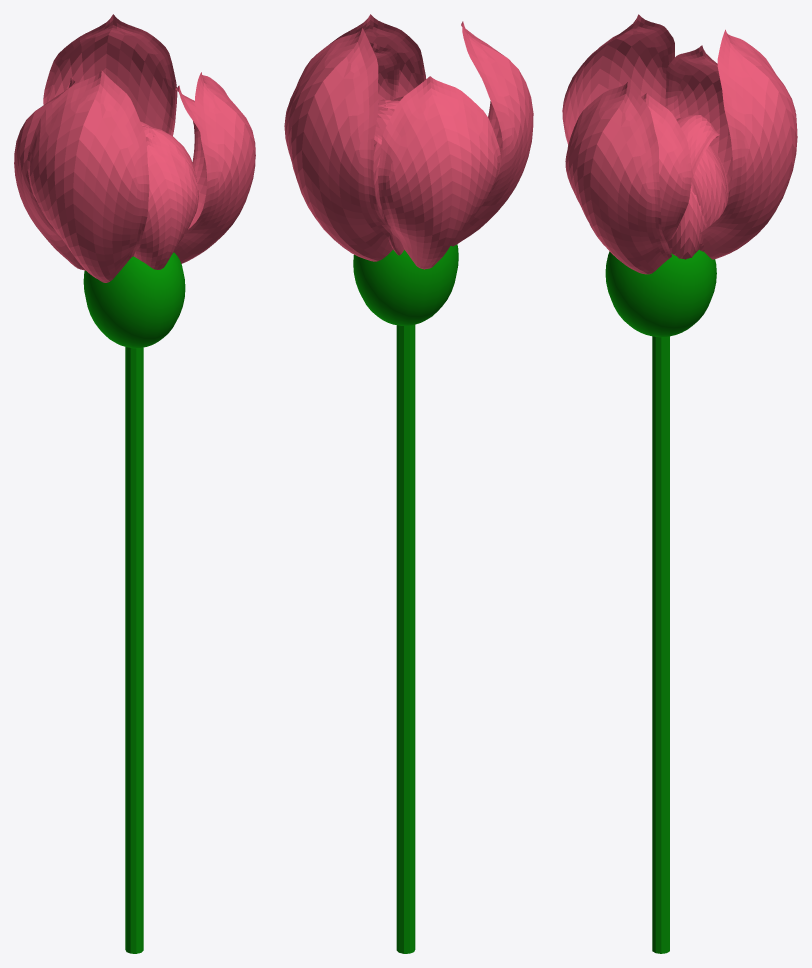
File: Lotus019.fbx
3 renders of one model, left to right at view 1: azimuth 30°, elevation 25°; view 2: azimuth 150°, elevation 25°; view 3: azimuth 270°, elevation 25°, orthographic. The views are drawn at different scales.
Visible parts, largest first — view 1: nurbsToPoly11, pCylinder1, nurbsToPoly10, nurbsToPoly24, pSphere4, nurbsToPoly8, nurbsToPoly12, nurbsToPoly9, nurbsToPoly13; view 2: nurbsToPoly10, nurbsToPoly12, pCylinder1, nurbsToPoly11, pSphere4, nurbsToPoly24, nurbsToPoly9; view 3: nurbsToPoly24, nurbsToPoly10, pCylinder1, pSphere4, nurbsToPoly11, nurbsToPoly12, nurbsToPoly9, nurbsToPoly17, nurbsToPoly15, nurbsToPoly22.
Boxes of the visible parts, x1,y1,x2,y2 form: nurbsToPoly11: [27, 70, 149, 282]; pCylinder1: [125, 347, 143, 953]; nurbsToPoly10: [43, 14, 177, 136]; nurbsToPoly24: [174, 72, 255, 263]; pSphere4: [83, 252, 185, 348]; nurbsToPoly8: [134, 137, 198, 269]; nurbsToPoly12: [14, 78, 85, 270]; nurbsToPoly9: [175, 85, 207, 229]; nurbsToPoly13: [145, 127, 197, 183]; nurbsToPoly10: [284, 28, 393, 261]; nurbsToPoly12: [378, 76, 500, 269]; pCylinder1: [396, 324, 415, 953]; nurbsToPoly11: [451, 21, 533, 246]; pSphere4: [353, 244, 458, 325]; nurbsToPoly24: [329, 14, 426, 97]; nurbsToPoly9: [372, 42, 400, 100]; nurbsToPoly24: [565, 82, 671, 274]; nurbsToPoly10: [700, 29, 797, 259]; pCylinder1: [652, 336, 669, 953]; pSphere4: [605, 249, 716, 337]; nurbsToPoly11: [562, 14, 674, 144]; nurbsToPoly12: [665, 45, 732, 199]; nurbsToPoly9: [641, 93, 691, 242]; nurbsToPoly17: [691, 145, 727, 251]; nurbsToPoly15: [667, 188, 707, 259]; nurbsToPoly22: [676, 114, 719, 180].
Bounding box in the file's own units: 13.21 × 55.06 × 12.67.
